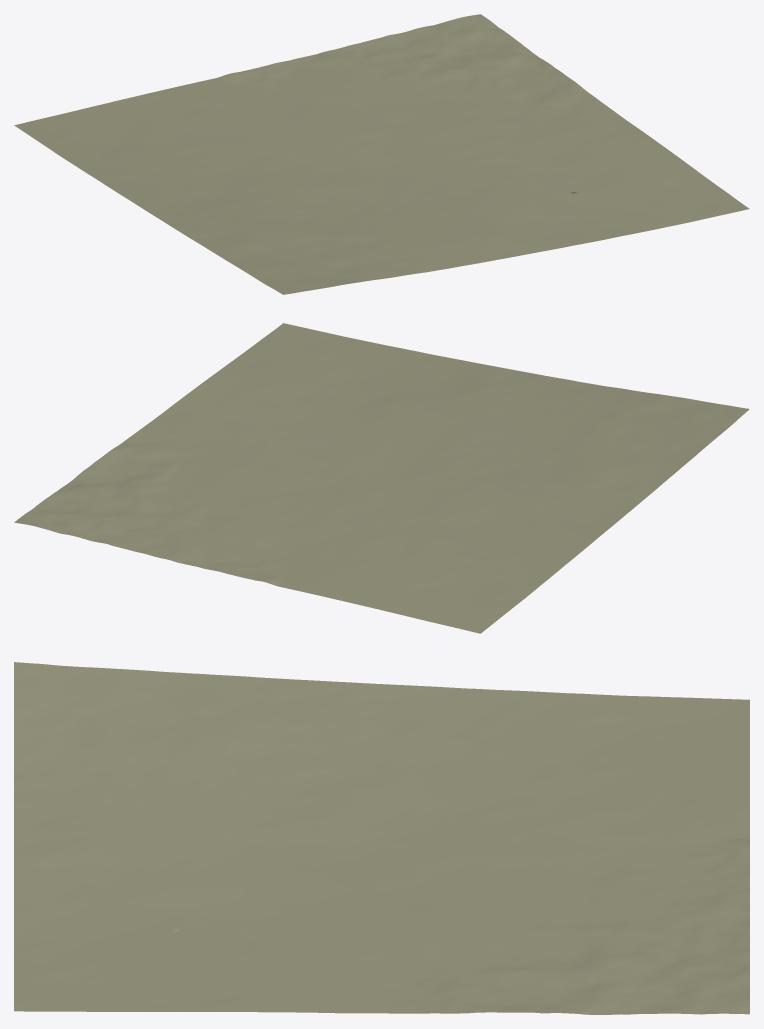
The model's file is SM_VB_CityTerrain_11_4.fbx.
3 views of the same model, one above another, from view 1: azimuth 30°, elevation 25°; view 2: azimuth 150°, elevation 25°; view 3: azimuth 270°, elevation 25° (orthographic). The views are drawn at different scales.
Visible parts, largest first — view 1: SM_VB_CityTerrain_11_4; view 2: SM_VB_CityTerrain_11_4; view 3: SM_VB_CityTerrain_11_4.
Part boxes in pixels (box(x1,y1,x2,y2)): SM_VB_CityTerrain_11_4: box(14, 14, 749, 294); SM_VB_CityTerrain_11_4: box(14, 323, 749, 633); SM_VB_CityTerrain_11_4: box(14, 662, 749, 1014).
Bounding box in the file's own units: 600 × 37.85 × 600.
